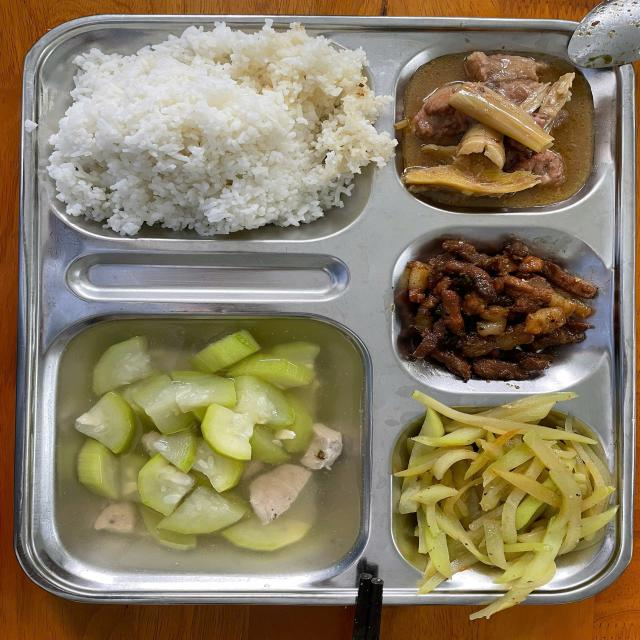canhbau: (64, 323, 362, 577)
salad: (70, 46, 361, 228)
suon: (401, 402, 608, 580)
thitkhotrung: (400, 51, 600, 208)
tomramthit: (400, 234, 596, 386)
